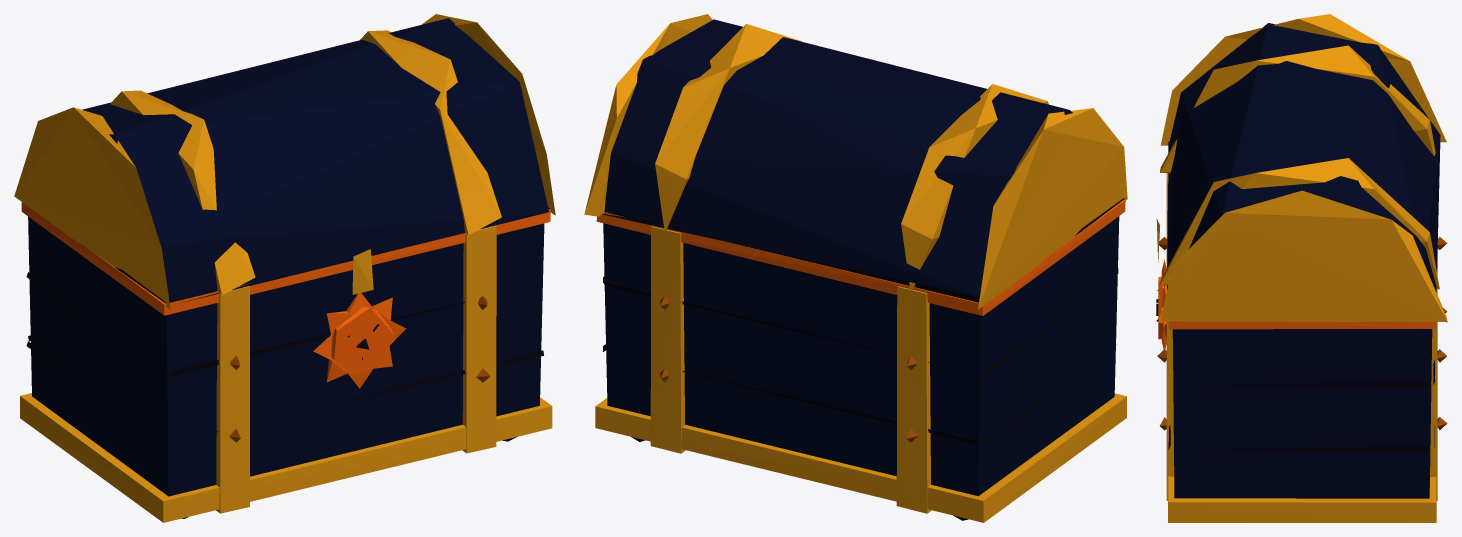
The model's file is grand_treasure_chest.three-web-toon.lod25.glb.
3 renders of one model, left to right at view 1: azimuth 30°, elevation 25°; view 2: azimuth 150°, elevation 25°; view 3: azimuth 270°, elevation 25°, orthographic. The views are drawn at different scales.
Parts seen in each view (by area): view 1: chest_body_lod, chest_lid_lod; view 2: chest_body_lod, chest_lid_lod; view 3: chest_lid_lod, chest_body_lod.
Boxes of the visible parts, bbox=[...] form: chest_body_lod: bbox=[20, 202, 552, 522]; chest_lid_lod: bbox=[14, 14, 555, 309]; chest_body_lod: bbox=[595, 200, 1126, 522]; chest_lid_lod: bbox=[584, 14, 1127, 309]; chest_lid_lod: bbox=[1156, 14, 1447, 322]; chest_body_lod: bbox=[1156, 173, 1447, 522].
Size of the model in its own units: 2.17 by 1.93 by 1.47.
